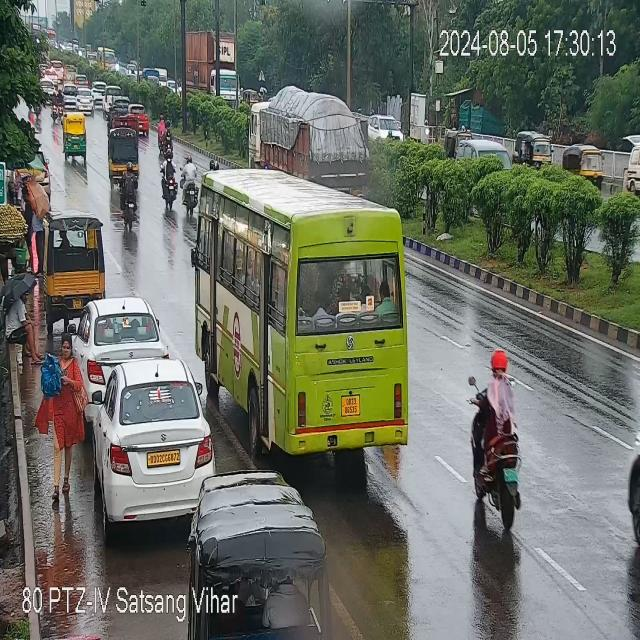2-wheelers: (467, 347, 527, 532), (116, 159, 142, 232), (30, 187, 48, 280), (160, 146, 180, 215), (185, 152, 201, 217), (161, 123, 176, 157)
auto: (106, 124, 141, 182), (564, 144, 606, 191), (62, 113, 90, 164), (75, 89, 96, 116)
bus: (197, 163, 412, 466), (182, 30, 240, 110)
car: (96, 362, 217, 534), (81, 297, 172, 415), (44, 208, 106, 326), (515, 130, 557, 174), (459, 141, 513, 172), (630, 406, 640, 546), (128, 101, 153, 138), (101, 84, 127, 112), (156, 115, 166, 145)
pedestrian: (41, 333, 88, 505), (4, 278, 38, 364), (95, 46, 118, 68)
truck: (250, 86, 368, 185), (370, 114, 406, 143)
